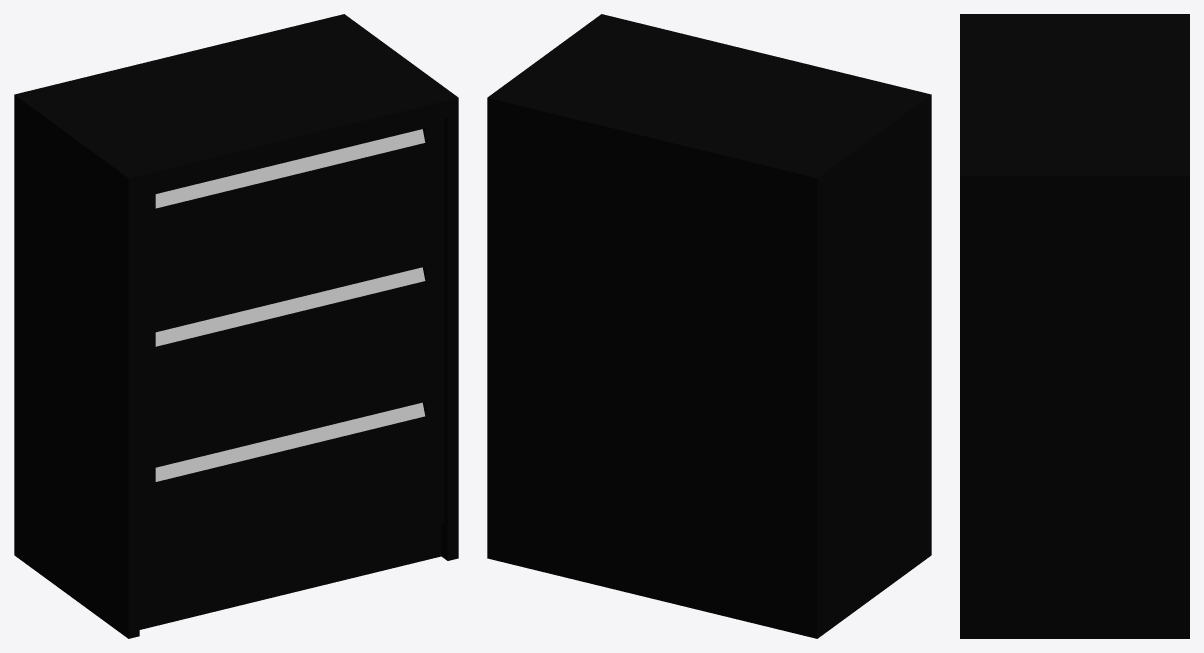
File: archiveroG.obj
The picture shows the model from 3 angles, left to right: view 1: azimuth 30°, elevation 25°; view 2: azimuth 150°, elevation 25°; view 3: azimuth 270°, elevation 25°; orthographic projection.
Visible parts, largest first — view 1: archivero:MeshpolySurface7, archivero:MeshpolySurface8, archivero:MeshpolySurface4, archivero:Mesh, archivero:MeshpolySurface5, archivero:MeshpolySurface1, archivero:MeshpolySurface3, archivero:MeshpolySurface2; view 2: archivero:MeshpolySurface7, archivero:MeshpolySurface8; view 3: archivero:MeshpolySurface8, archivero:MeshpolySurface7.
Part boxes in pixels (x1,y1,x2,y2): archivero:MeshpolySurface7: [14, 54, 293, 638]; archivero:MeshpolySurface8: [179, 14, 458, 593]; archivero:MeshpolySurface4: [288, 267, 425, 313]; archivero:Mesh: [288, 402, 425, 449]; archivero:MeshpolySurface5: [288, 129, 425, 175]; archivero:MeshpolySurface1: [155, 162, 290, 208]; archivero:MeshpolySurface3: [155, 300, 290, 346]; archivero:MeshpolySurface2: [155, 435, 290, 481]; archivero:MeshpolySurface7: [652, 54, 931, 638]; archivero:MeshpolySurface8: [487, 14, 766, 598]; archivero:MeshpolySurface8: [960, 95, 1189, 638]; archivero:MeshpolySurface7: [960, 14, 1189, 94].
Bounding box in the file's own units: 0.762 × 1.02 × 0.4572.
Materials: 2 (2 with a texture image).
